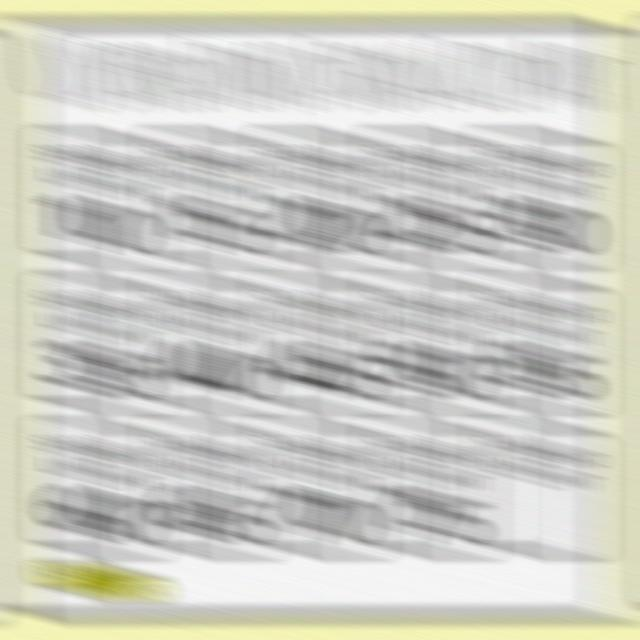speedLimit15: (153, 127, 264, 265)
speedLimit20: (264, 122, 373, 258)
speedLimit25: (376, 118, 483, 266)
speedLimit30: (488, 121, 596, 277)
speedLimit35: (38, 278, 158, 408)
speedLimit40: (152, 270, 264, 398)
speedLimit45: (269, 278, 373, 410)
speedLimit50: (374, 272, 488, 410)
speedLimit55: (488, 271, 596, 412)
speedLimit60: (39, 414, 151, 562)
speedLimit65: (156, 417, 259, 564)
speedLimit70: (260, 424, 372, 563)
speedLimit75: (372, 424, 487, 557)
